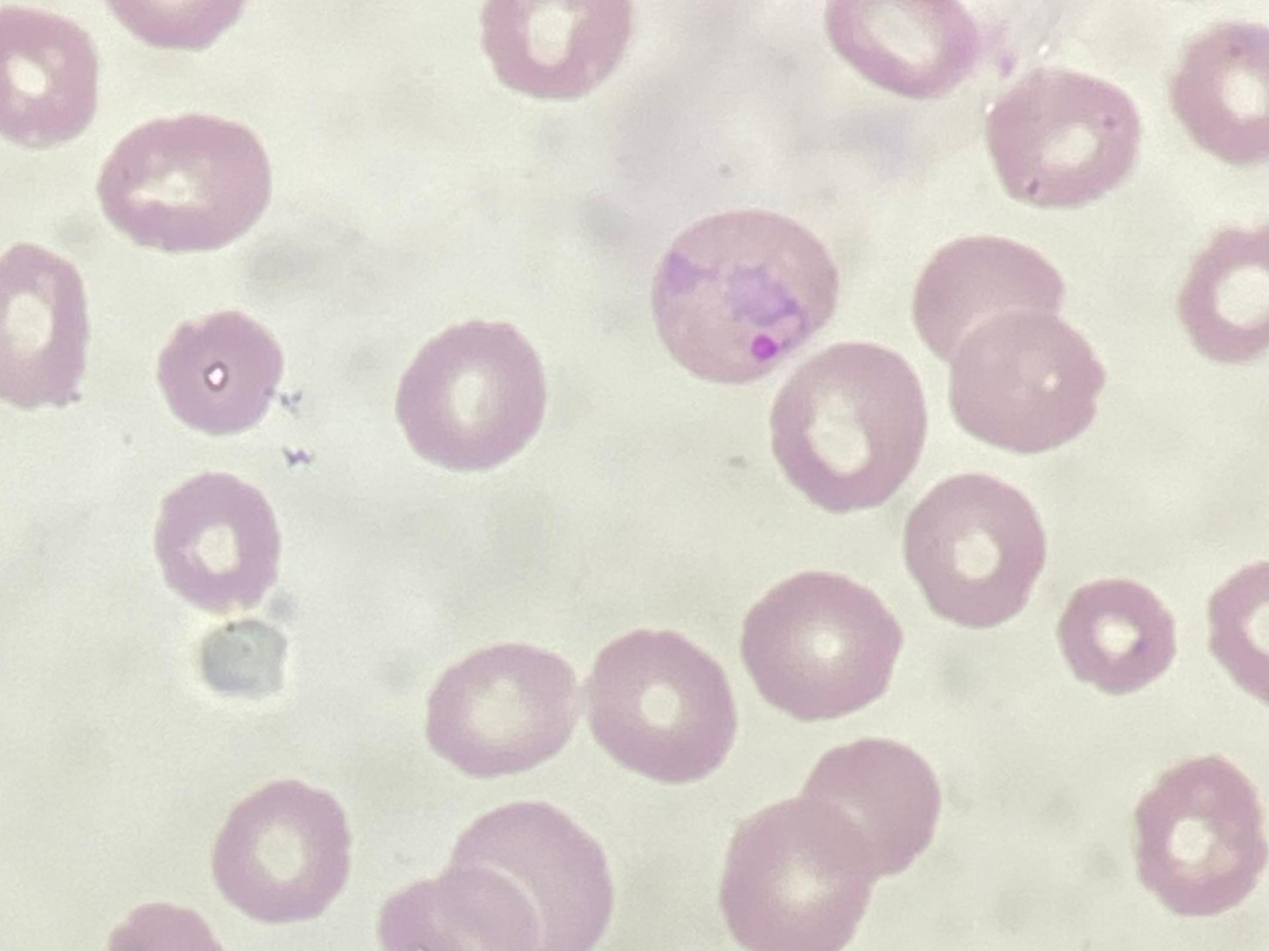Infected: (651, 208, 833, 377)
Uninfected: (773, 342, 933, 511), (443, 803, 608, 950), (96, 111, 268, 252), (740, 572, 902, 721), (719, 803, 884, 947), (394, 320, 547, 469), (586, 631, 736, 780), (948, 309, 1104, 451), (988, 65, 1141, 206), (904, 475, 1046, 626), (424, 643, 580, 777), (1129, 756, 1262, 913), (213, 780, 352, 923), (151, 473, 282, 618), (913, 235, 1065, 358), (802, 740, 939, 872), (155, 308, 287, 437), (0, 243, 89, 408), (0, 8, 100, 149), (830, 2, 981, 95), (483, 1, 627, 98), (1057, 580, 1176, 697), (1174, 22, 1269, 160), (1182, 223, 1269, 360)
